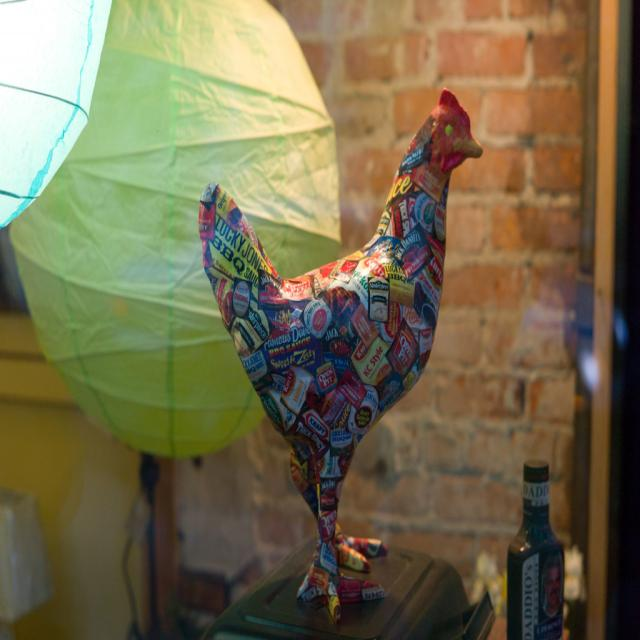Chicken: (225, 66, 514, 481)
